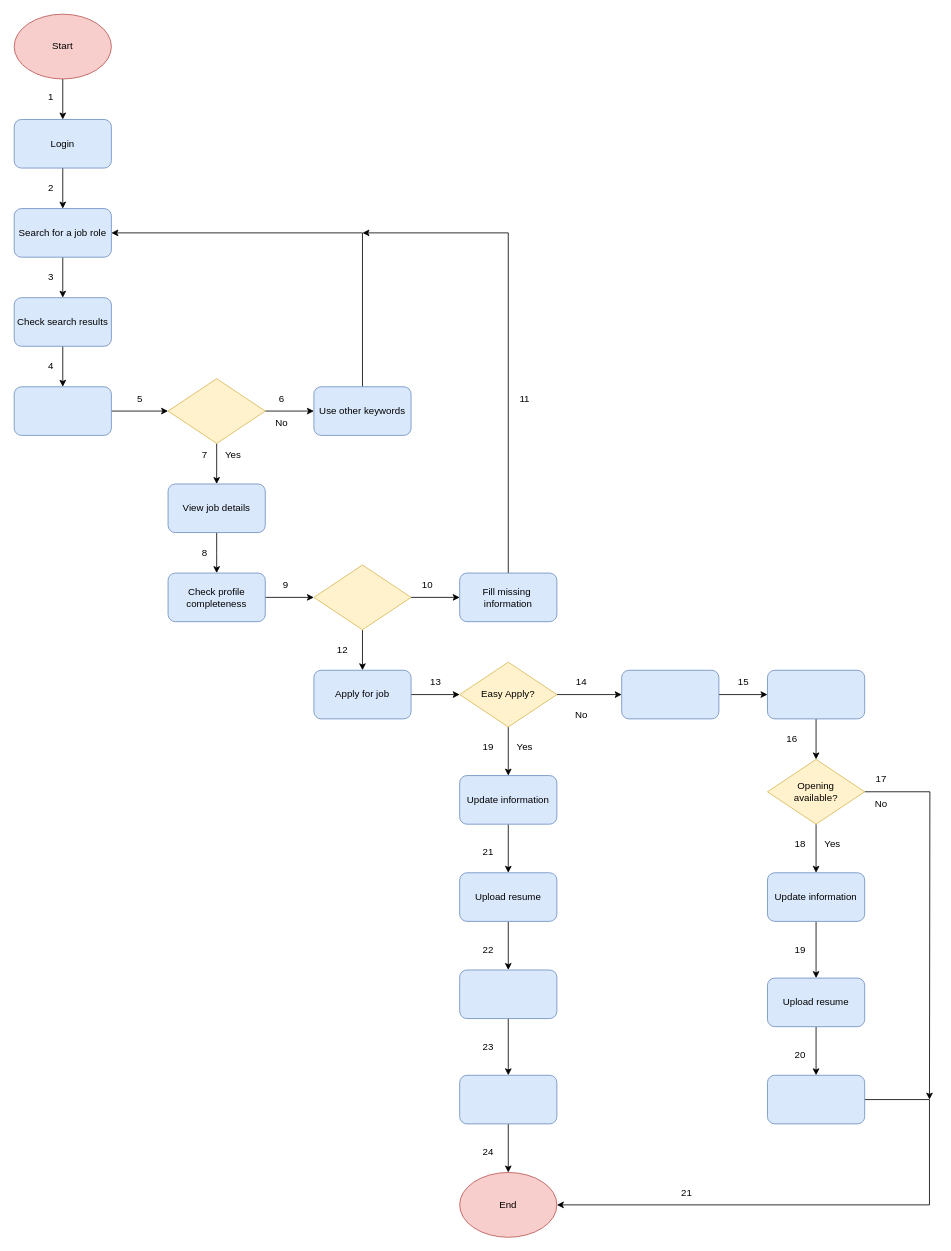
Some shapes in this 951 by 1251 pixel diagram are drawn without their labels. The centre of each missing label's shape, as x and y in pixels:
Application submitted: point (508, 1099)
Check job opening: point (816, 694)
Filter by job: point (62, 410)
Go to company website: point (670, 694)
Matches job criteria?: point (216, 410)
Profile complete?: point (362, 597)
Review: point (508, 994)
Submit: point (816, 1099)
